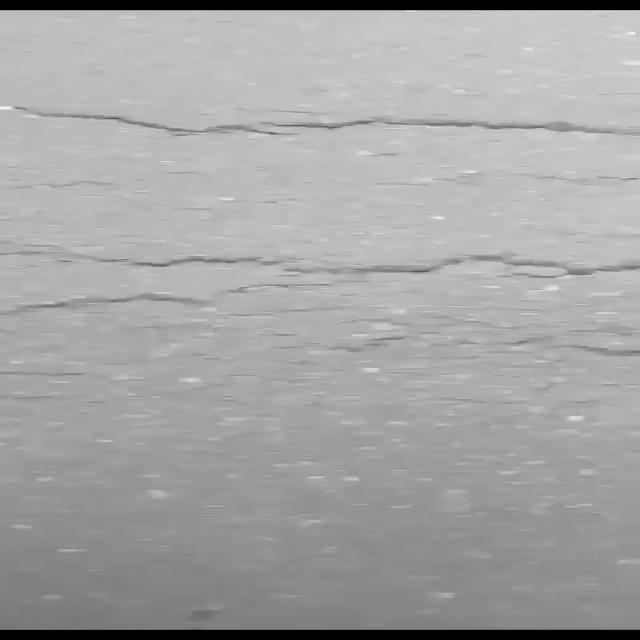Melintang: (0, 85, 640, 150), (0, 229, 640, 292)
